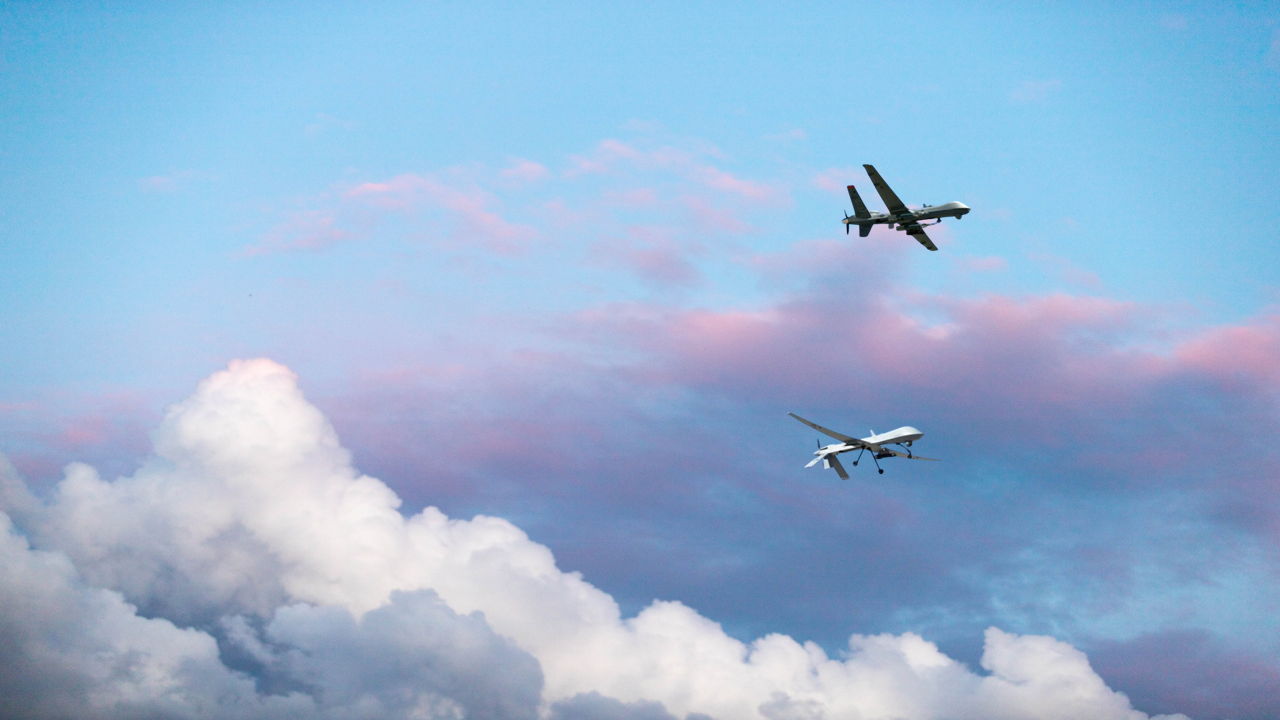military drone: (841, 164, 970, 251), (786, 411, 941, 480)
